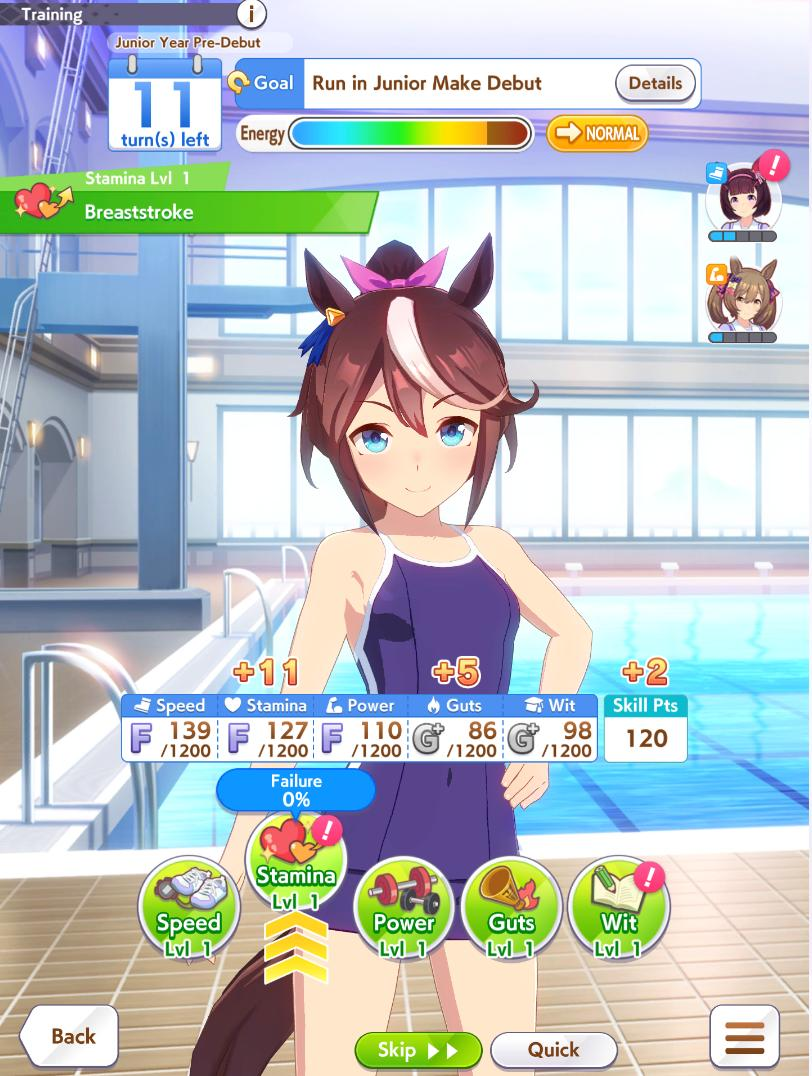Energy: (232, 112, 538, 156)
fail: (217, 766, 379, 816)
guts: (465, 864, 553, 951)
normal: (542, 113, 651, 157)
power: (362, 865, 444, 955)
speed: (147, 863, 237, 956)
stamina: (252, 811, 339, 904)
turns: (106, 54, 225, 156)
wit: (574, 858, 664, 953)
